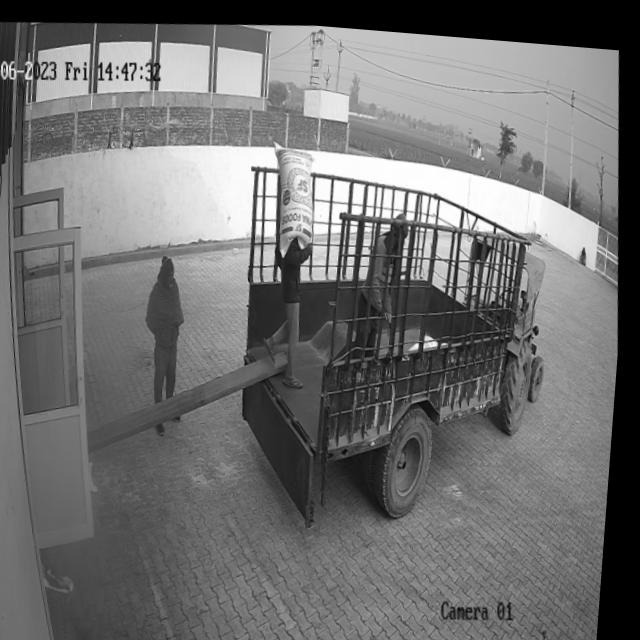sack: (268, 133, 322, 253)
